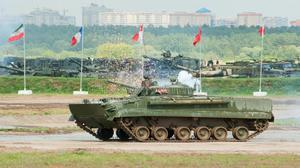bmp: (68, 76, 274, 139)
